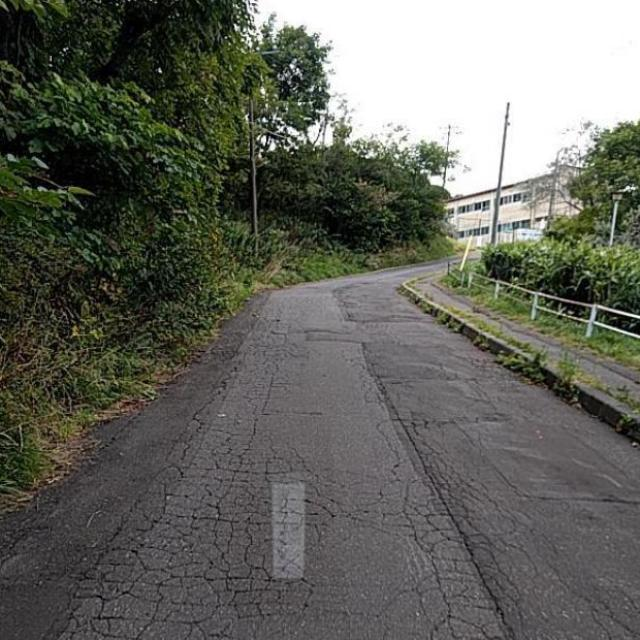Retak Buaya: (52, 426, 332, 640)
